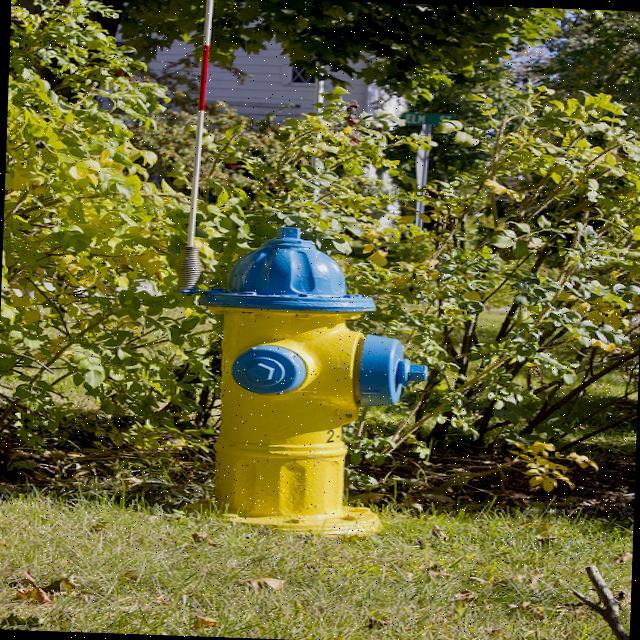fire_hydrant: (178, 220, 430, 538)
